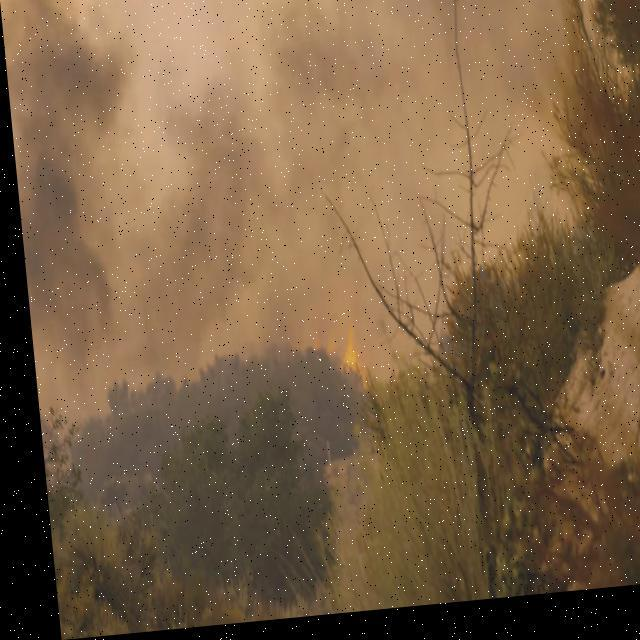Fire: (306, 338, 362, 402)
